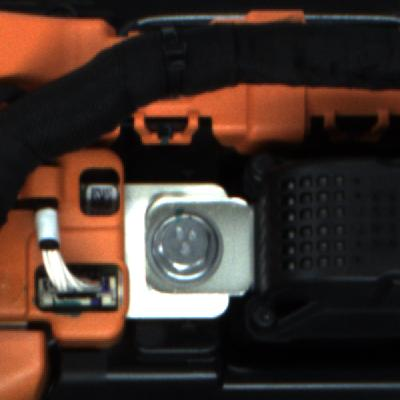nut_b: (147, 203, 235, 295)
